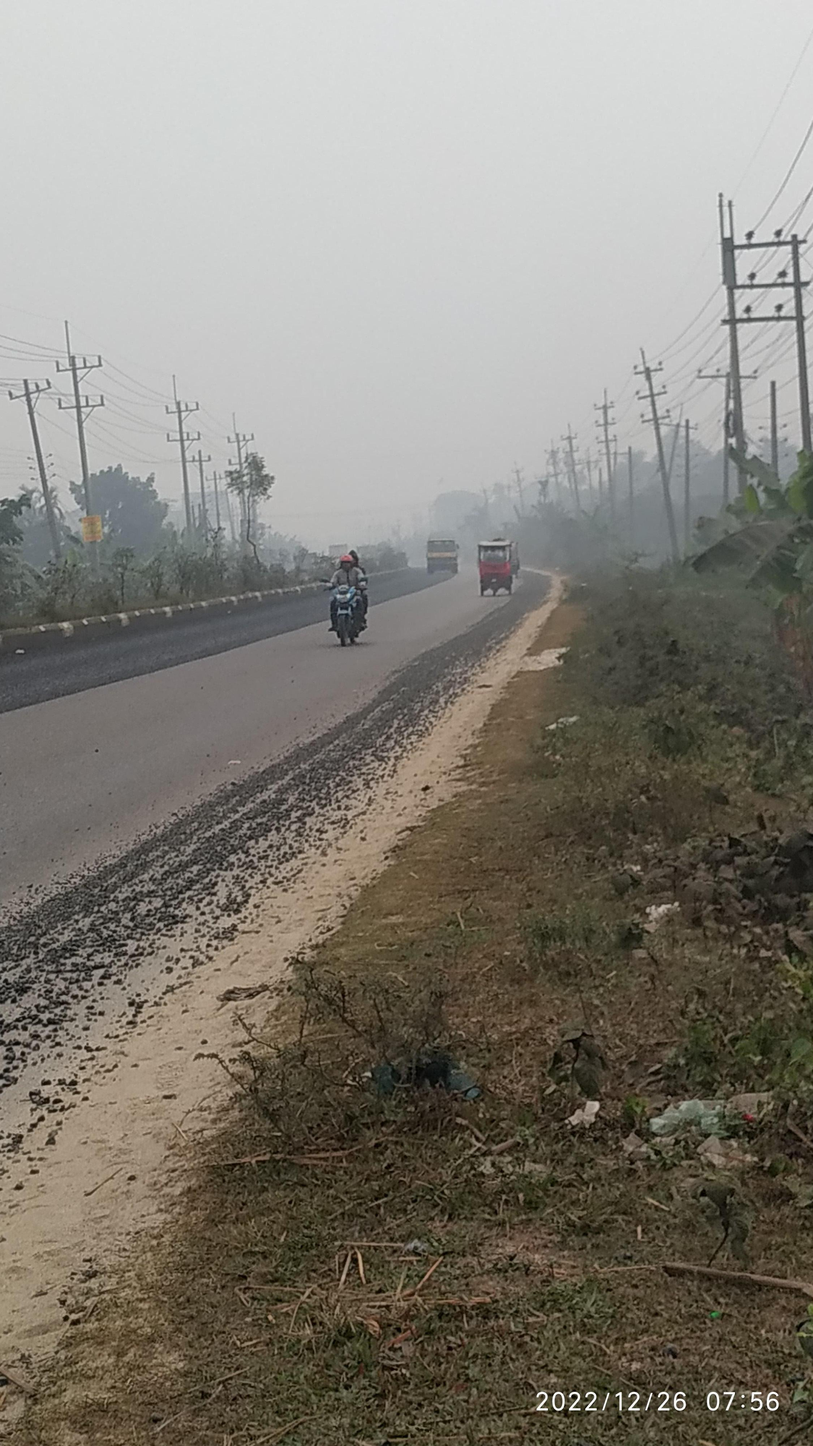Bike: (307, 540, 384, 655)
Car: (471, 531, 524, 620)
Truck: (417, 524, 466, 589)
